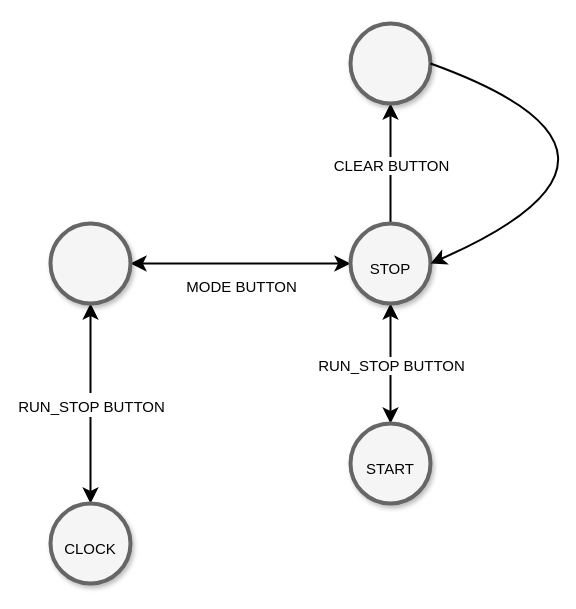
Some shapes in this 576 by 609 pixel diagram are drawn without their labels. The shapes that lost their labels are listed below. From the top down, each one's centre as x and y in pixels, then its label:
At point 391,64: "CLEAR".
At point 91,264: "IDLE".
